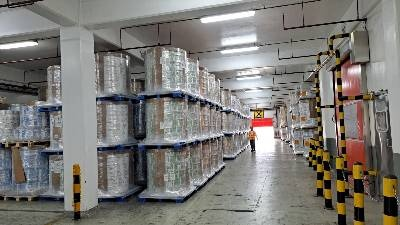safety-cone: (66, 163, 84, 221)
